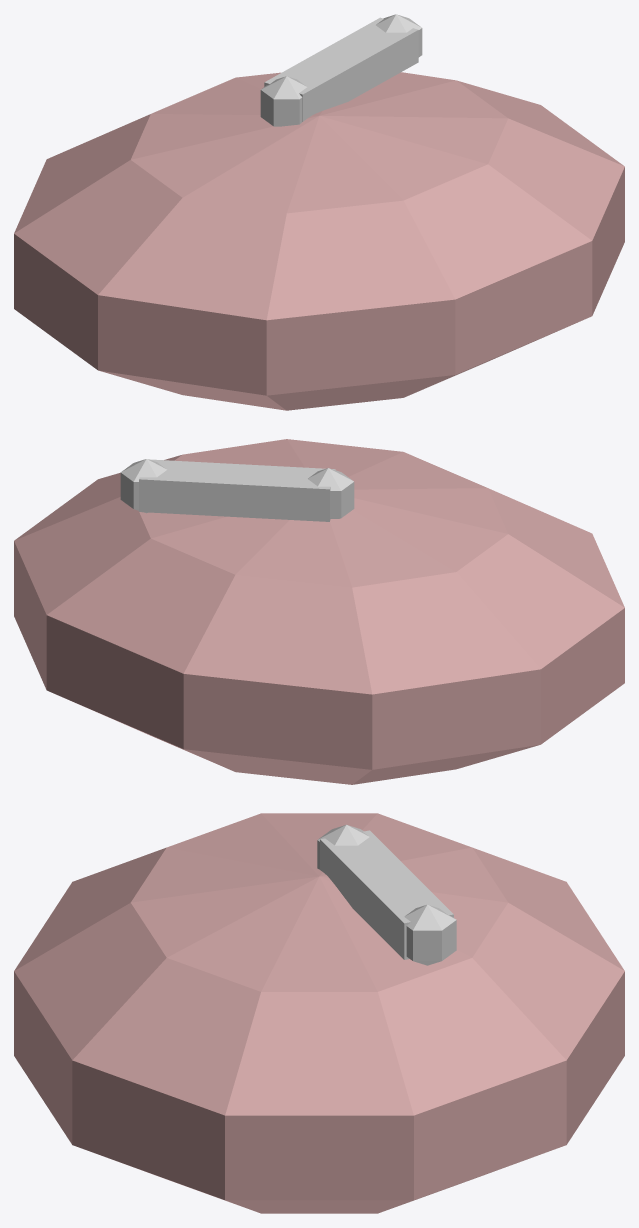
File: pets_almofada.glb
The picture shows the model from 3 angles, top to bottom: view 1: azimuth 30°, elevation 25°; view 2: azimuth 150°, elevation 25°; view 3: azimuth 270°, elevation 25°; orthographic projection. The views are drawn at different scales.
Parts seen in each view (by area): view 1: PETS_ALMOFADA_v01; view 2: PETS_ALMOFADA_v01; view 3: PETS_ALMOFADA_v01.
Part boxes in pixels (box(x1,y1,x2,y2)): PETS_ALMOFADA_v01: box(14, 14, 624, 410); PETS_ALMOFADA_v01: box(14, 439, 624, 784); PETS_ALMOFADA_v01: box(14, 813, 624, 1213).
Size of the model in its own units: 0.5065 by 0.257 by 0.4527.
